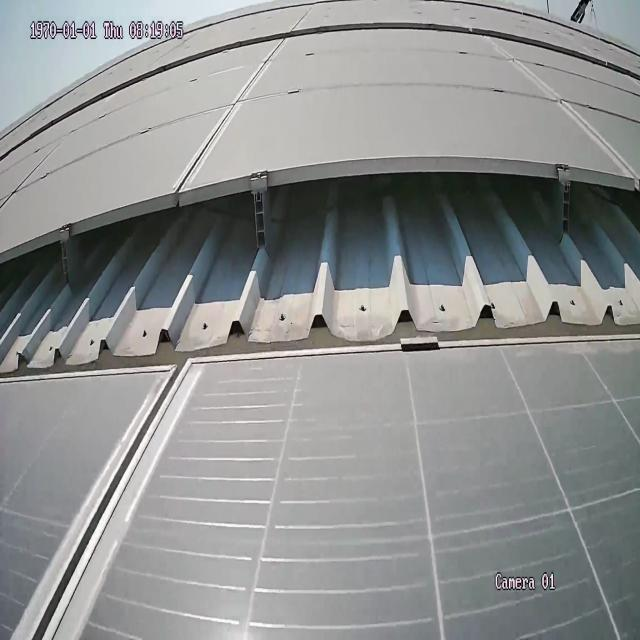interior panel: (2, 376, 195, 640), (493, 42, 632, 174), (175, 45, 283, 182)
outher panel: (0, 159, 636, 385)
